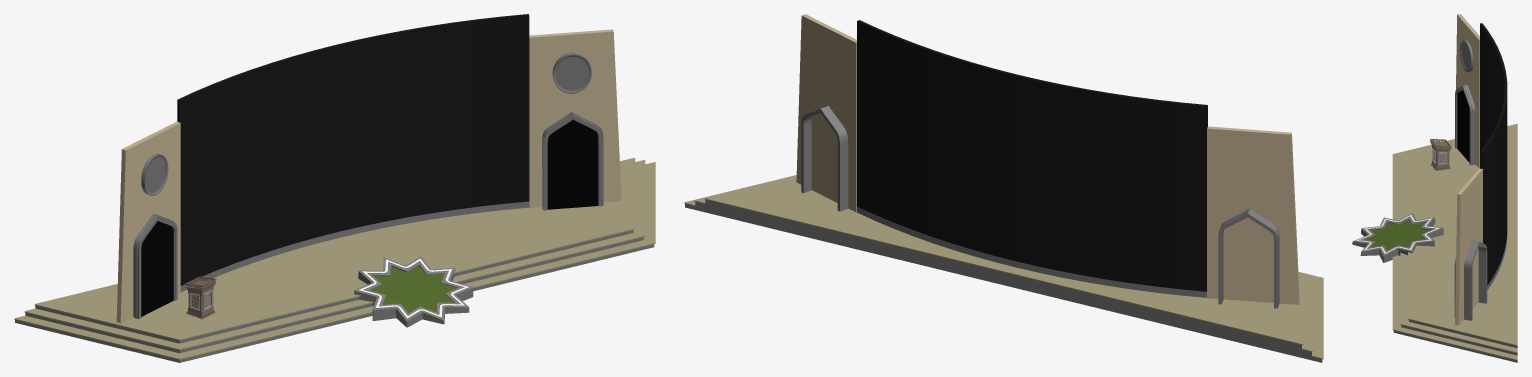
Rendered from Stage-Design-Islamic.fbx.
The picture shows the model from 3 angles, left to right: view 1: azimuth 30°, elevation 25°; view 2: azimuth 150°, elevation 25°; view 3: azimuth 270°, elevation 25°; orthographic projection. The views are drawn at different scales.
Parts seen in each view (by area): view 1: screen-base001, stage, Box036, Box035, Mesh001, screen-base, Layer:Default, Layer:Default001, Cylinder002, frames-002, Cylinder001; view 2: screen-base001, stage, Box035, Box036, screen-base, Layer:Default001, Layer:Default; view 3: stage, screen-base001, Box036, Mesh001, Box035, Layer:Default001, Layer:Default, frames-002, Cylinder001.
Boxes of the visible parts, left/top/right/bottom form: screen-base001: left=177, top=14, right=529, bottom=285; stage: left=14, top=158, right=655, bottom=362; Box036: left=529, top=29, right=621, bottom=207; Box035: left=116, top=121, right=180, bottom=323; Mesh001: left=354, top=256, right=473, bottom=327; screen-base: left=180, top=201, right=529, bottom=291; Layer:Default: left=133, top=214, right=177, bottom=318; Layer:Default001: left=542, top=112, right=603, bottom=210; Cylinder002: left=552, top=52, right=591, bottom=93; frames-002: left=185, top=276, right=216, bottom=319; Cylinder001: left=141, top=153, right=168, bottom=195; screen-base001: left=857, top=20, right=1207, bottom=291; stage: left=684, top=175, right=1323, bottom=362; Box035: left=1207, top=126, right=1299, bottom=304; Box036: left=796, top=14, right=856, bottom=212; screen-base: left=857, top=206, right=1206, bottom=297; Layer:Default001: left=801, top=106, right=848, bottom=211; Layer:Default: left=1218, top=208, right=1279, bottom=308; stage: left=1392, top=124, right=1517, bottom=362; screen-base001: left=1480, top=23, right=1507, bottom=285; Box036: left=1455, top=168, right=1482, bottom=325; Mesh001: left=1352, top=213, right=1443, bottom=262; Box035: left=1456, top=14, right=1479, bottom=168; Layer:Default001: left=1454, top=240, right=1487, bottom=320; Layer:Default: left=1455, top=84, right=1475, bottom=165; frames-002: left=1430, top=139, right=1451, bottom=170; Cylinder001: left=1460, top=40, right=1473, bottom=72.
Size of the model in its own units: 21648 by 6657 by 6416.
